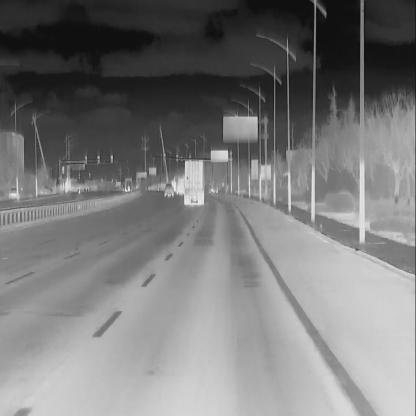car: (8, 185, 21, 201), (162, 182, 175, 198)
truck: (182, 157, 206, 208), (121, 176, 133, 194)
